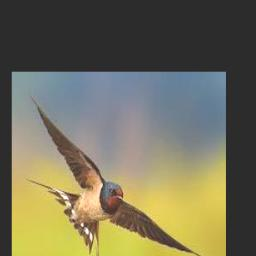Swallow: (27, 93, 204, 256)
